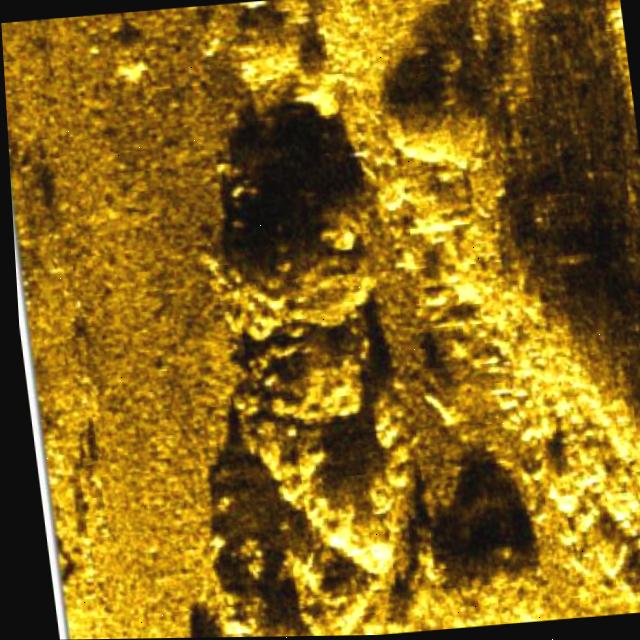bedrock group: (121, 0, 640, 639)
